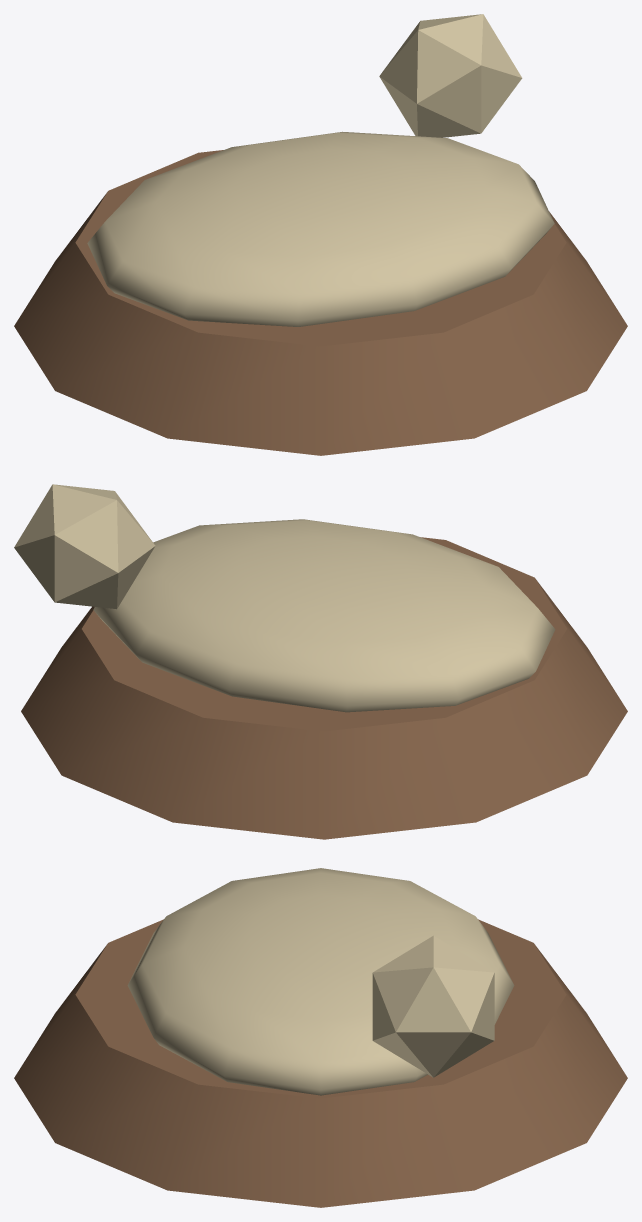
The model's file is home.glb.
3 renders of one model, top to bottom at view 1: azimuth 30°, elevation 25°; view 2: azimuth 150°, elevation 25°; view 3: azimuth 270°, elevation 25°, orthographic.
Parts seen in each view (by area): view 1: home_base, home_cushion, home_marker; view 2: home_base, home_cushion, home_marker; view 3: home_base, home_cushion, home_marker.
Boxes of the visible parts, x1,y1,x2,y2 form: home_base: (14,150,627,455); home_cushion: (87,131,554,326); home_marker: (379,14,522,137); home_base: (21,537,627,839); home_cushion: (93,519,555,712); home_marker: (14,484,155,609); home_base: (14,919,627,1207); home_cushion: (127,868,514,1095); home_marker: (372,935,494,1077).
Bounding box in the file's own units: 1.2 × 0.4691 × 1.2.
